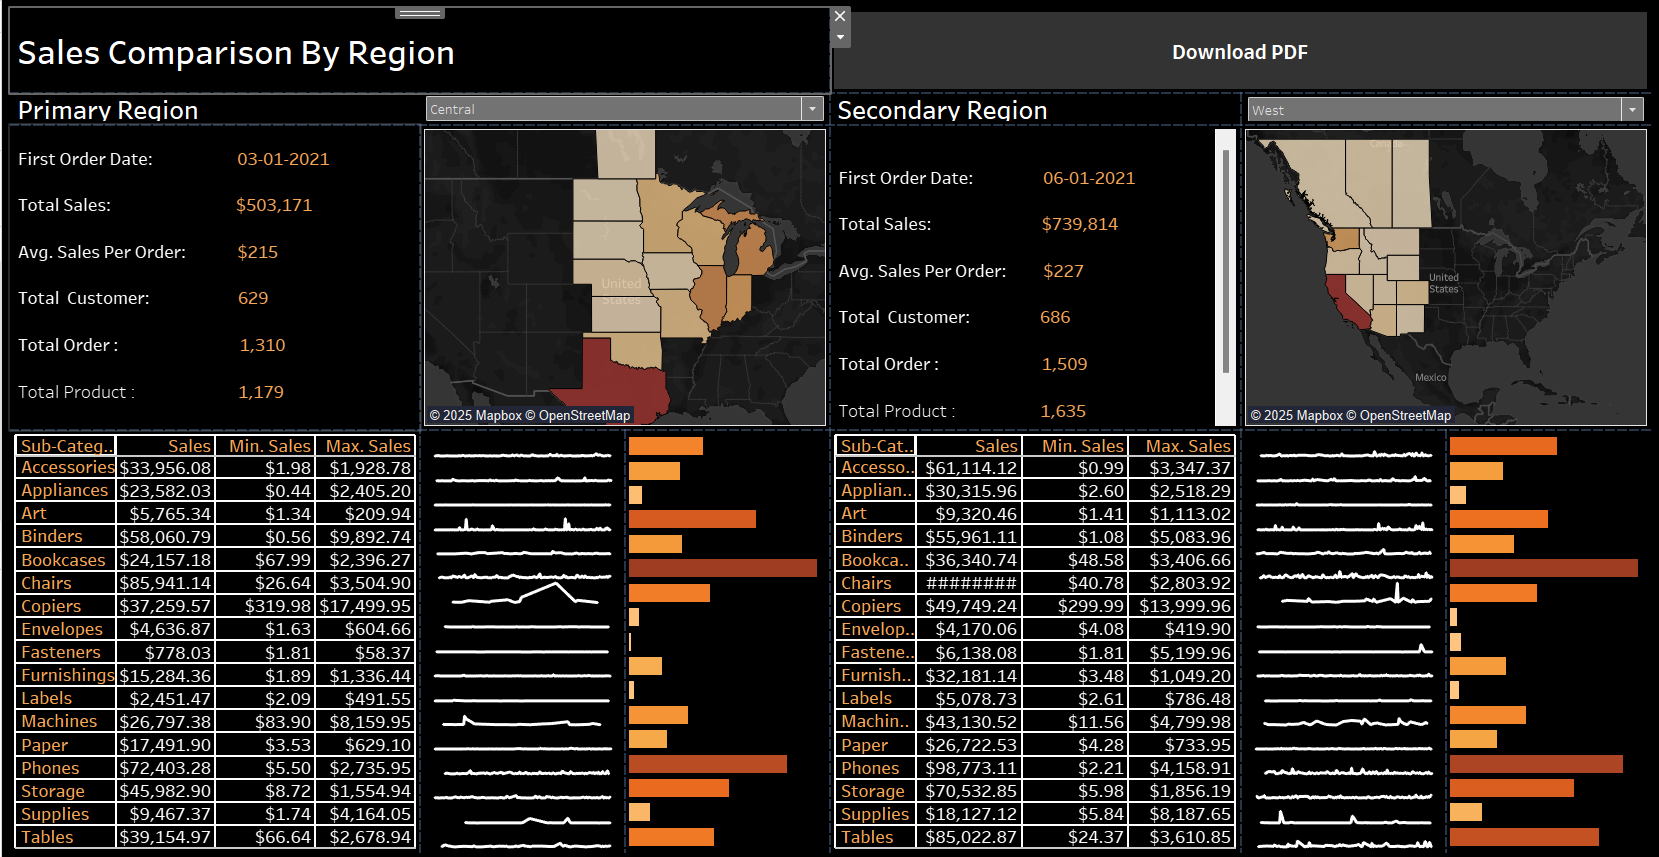

This screenshot's page, from the dashboard's own definition file:
{"tool":"tableau","page":{"name":"Dashboard 1","canvas":[1000,1000],"units":"permille","ordinal":0},"visuals":[{"type":"text","box":[5,9.3,495,98.7]},{"type":"dashboard-object","box":[500,9.3,495,98.7]},{"type":"text","box":[5,108,494.9,37.2]},{"type":"filter","title":"Primary Map","param":"[federated.0mwgsqk1kdttpp139c3kc0ded0zq].[none:Region:nk]","box":[254.2,108,243.6,40.6]},{"type":"text","box":[499.9,108,247.5,37.2]},{"type":"filter","title":"Secondary Map ","param":"[federated.0mwgsqk1kdttpp139c3kc0ded0zq].[none:Region:nk]","box":[747.5,108,247.5,37.2]},{"type":"worksheet","title":"Primary Measure","mark":"Automatic","box":[5,145.2,247.5,354.2]},{"type":"worksheet","title":"Primary Map","mark":"Automatic","box":[252.5,145.2,247.5,354.2]},{"type":"worksheet","title":"Secondary Measure ","mark":"Automatic","box":[499.9,145.2,247.5,354.2]},{"type":"worksheet","title":"Secondary Map ","mark":"Automatic","box":[747.5,145.2,247.5,354.2]},{"type":"worksheet","title":"Primary Region Sales","mark":"Automatic","rows":["Sub-Category"],"box":[5,499.4,247.3,491.3]},{"type":"worksheet","title":"Primary Sales Line","mark":"Automatic","rows":["Sub-Category","Sales"],"cols":["Order Date"],"box":[252.3,499.4,123.9,491.3]},{"type":"worksheet","title":"Primary Sales Chart","mark":"Automatic","rows":["Sub-Category"],"cols":["Sales"],"box":[376.2,499.4,123.7,491.3]},{"type":"worksheet","title":"Secondary Region Sales ","mark":"Automatic","rows":["Sub-Category"],"box":[499.9,499.4,247.5,491.2]},{"type":"worksheet","title":"Secondary Sales Line ","mark":"Automatic","rows":["Sub-Category","Sales"],"cols":["Order Date"],"box":[747.5,499.4,123.8,491.3]},{"type":"worksheet","title":"Secondary Sales Chart ","mark":"Automatic","rows":["Sub-Category"],"cols":["Sales"],"box":[871.2,499.4,123.8,491.3]}]}

Visuals, with their boxes on the dashboard's canvas, which has no fixed pixel size, in thousandths of its width and height (x1, y1, x2, y2). These are canvas units, not pixel positions in the 1659x857 screenshot, which may show the page scaled, cropped or inside an application window:
text: (5, 9, 500, 108)
dashboard-object: (500, 9, 995, 108)
text: (5, 108, 500, 145)
"Primary Map" filter: (254, 108, 498, 149)
text: (500, 108, 747, 145)
"Secondary Map " filter: (748, 108, 995, 145)
"Primary Measure" worksheet: (5, 145, 252, 499)
"Primary Map" worksheet: (252, 145, 500, 499)
"Secondary Measure " worksheet: (500, 145, 747, 499)
"Secondary Map " worksheet: (748, 145, 995, 499)
"Primary Region Sales" worksheet: (5, 499, 252, 991)
"Primary Sales Line" worksheet: (252, 499, 376, 991)
"Primary Sales Chart" worksheet: (376, 499, 500, 991)
"Secondary Region Sales " worksheet: (500, 499, 747, 991)
"Secondary Sales Line " worksheet: (748, 499, 871, 991)
"Secondary Sales Chart " worksheet: (871, 499, 995, 991)
